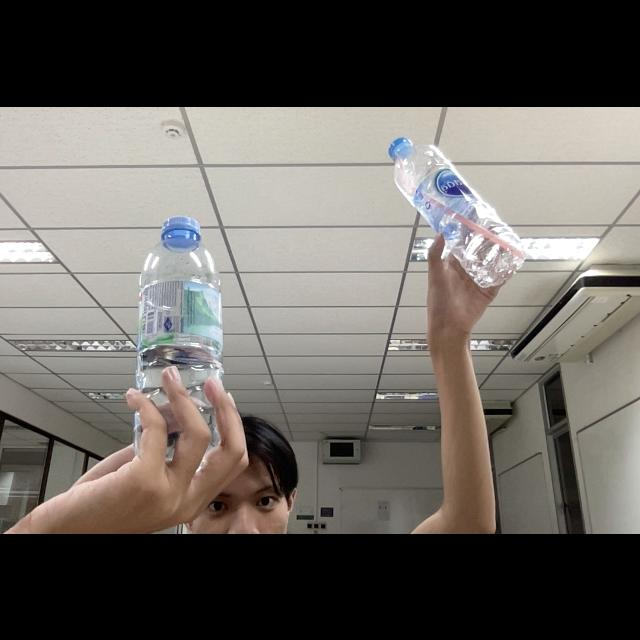plastic_bottle: (133, 204, 229, 468), (386, 128, 530, 292)
plastic_bottle_cap: (162, 214, 200, 250), (388, 134, 412, 160)
straw: (404, 180, 530, 260)
